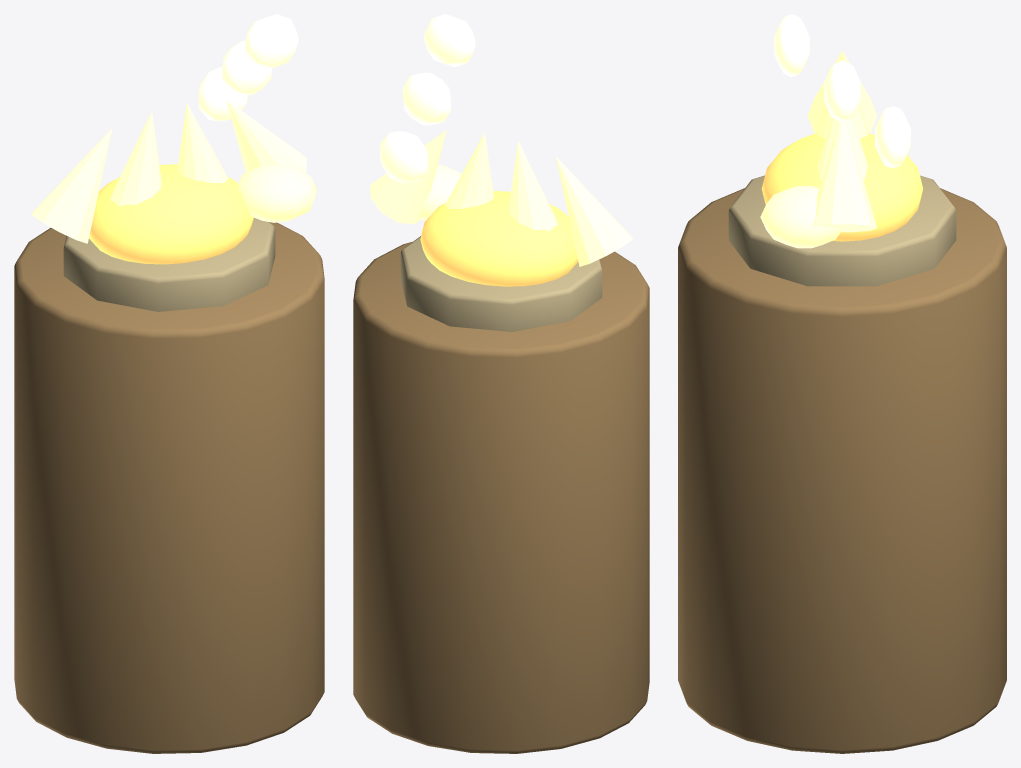
File: ember-stump.glb
3 renders of one model, left to right at view 1: azimuth 30°, elevation 25°; view 2: azimuth 150°, elevation 25°; view 3: azimuth 270°, elevation 25°, orthographic. The views are drawn at different scales.
Parts seen in each view (by area): view 1: stump, ember, ashes, flame, eye, flame.003, flame.001, glow_2, flame.002, glow_1, glow_0; view 2: stump, ember, ashes, flame, flame.003, flame.001, glow_1, glow_2, glow_0, flame.002, eye; view 3: stump, ashes, ember, flame.003, eye, glow_1, glow_0, glow_2, flame, flame.002.
Part boxes in pixels (<box>): stump: <box>14,222,324,753</box>; ember: <box>89,164,253,264</box>; ashes: <box>63,217,275,311</box>; flame: <box>32,128,112,243</box>; eye: <box>238,164,316,222</box>; flame.003: <box>226,100,306,172</box>; flame.001: <box>110,112,161,206</box>; glow_2: <box>244,14,298,69</box>; flame.002: <box>177,103,228,183</box>; glow_1: <box>222,40,272,95</box>; glow_0: <box>198,67,248,121</box>; stump: <box>353,242,649,753</box>; ember: <box>420,191,578,286</box>; ashes: <box>400,236,602,331</box>; flame: <box>556,156,632,266</box>; flame.003: <box>370,130,446,224</box>; flame.001: <box>509,140,557,231</box>; glow_1: <box>402,72,451,125</box>; glow_2: <box>424,14,475,67</box>; glow_0: <box>380,131,427,183</box>; flame.002: <box>445,132,493,208</box>; eye: <box>420,165,461,220</box>; stump: <box>678,188,1006,753</box>; ashes: <box>728,175,956,286</box>; ember: <box>761,133,923,241</box>; flame.003: <box>813,121,876,232</box>; eye: <box>760,186,841,248</box>; glow_1: <box>824,60,860,122</box>; glow_0: <box>875,106,910,168</box>; glow_2: <box>774,14,809,76</box>; flame: <box>808,50,876,133</box>; flame.002: <box>817,117,867,179</box>.
Bounding box in the file's own units: 0.52 × 1.24 × 0.52.
